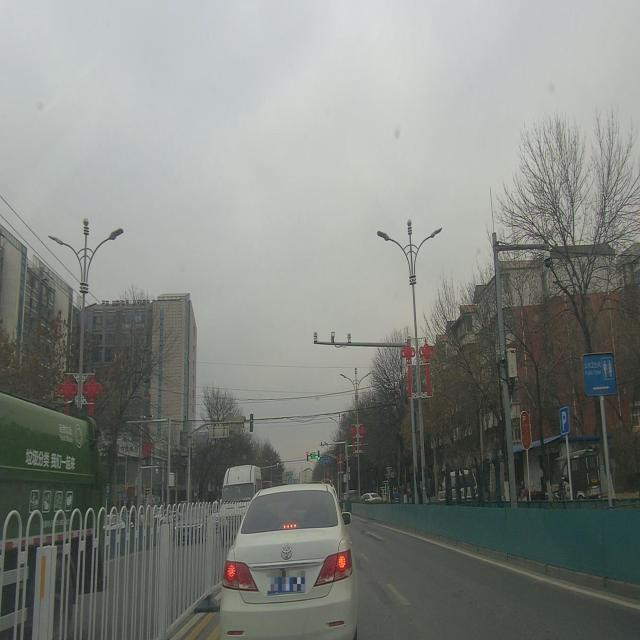car: (219, 482, 354, 637)
